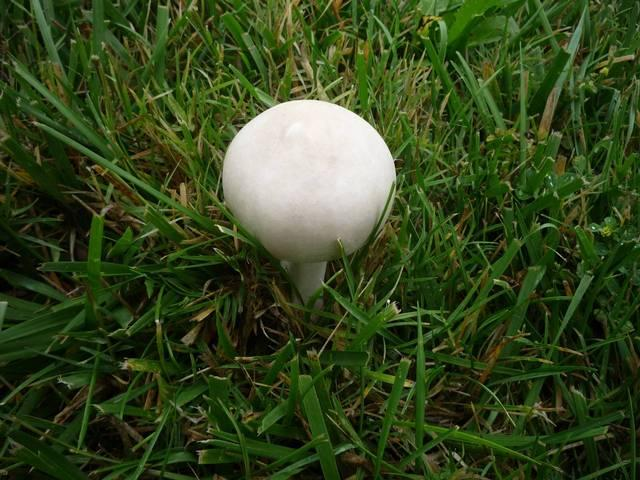Non-edible Mushroom: (220, 97, 397, 310)
